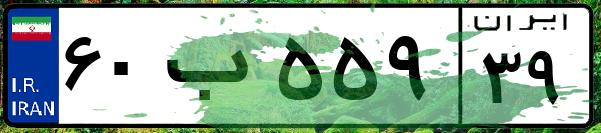0: (110, 28, 158, 98)
3: (475, 38, 525, 113)
5: (270, 28, 330, 110), (330, 28, 385, 110)
6: (57, 26, 110, 100)
9: (385, 28, 445, 110), (525, 38, 570, 115)
ب: (158, 20, 270, 120)
